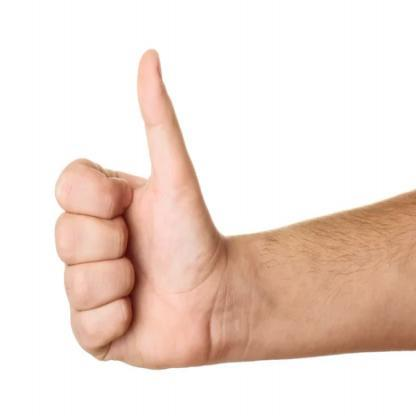thumb_up: (51, 44, 222, 372)
